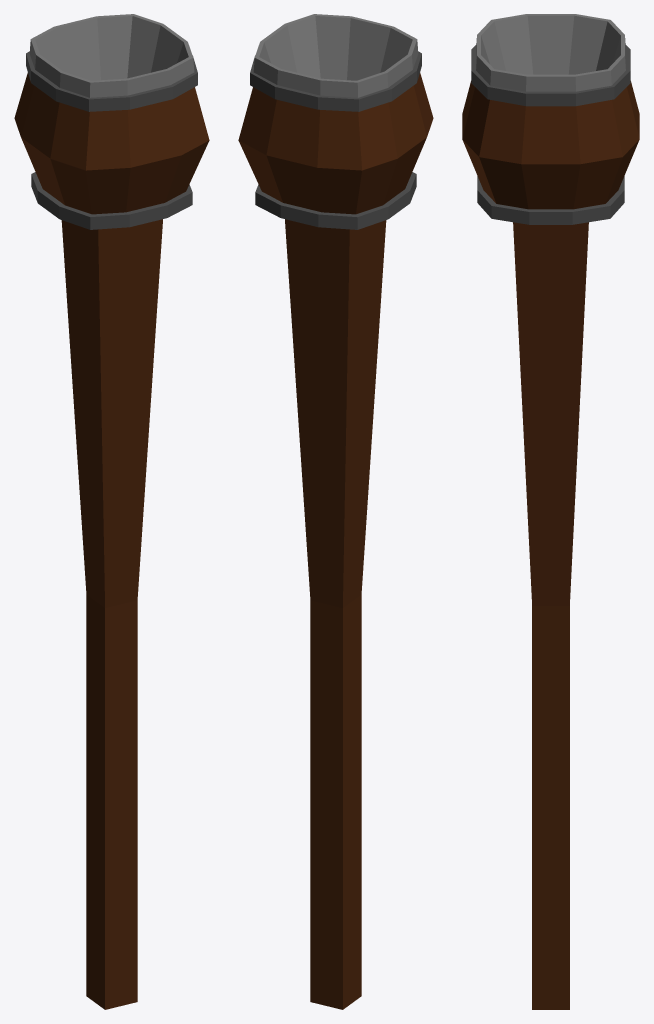
The model's file is StandingTorch.fbx.
3 renders of one model, left to right at view 1: azimuth 30°, elevation 25°; view 2: azimuth 150°, elevation 25°; view 3: azimuth 270°, elevation 25°, orthographic.
Parts seen in each view (by area): view 1: Cube; view 2: Cube; view 3: Cube.
Part boxes in pixels (x1,y1,x2,y2): Cube: (14,14,209,1009); Cube: (238,14,433,1009); Cube: (462,14,639,1009).
Bounding box in the file's own units: 23.33 × 139 × 23.33.
